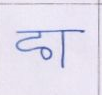aa_matra: (61, 31, 65, 66)
